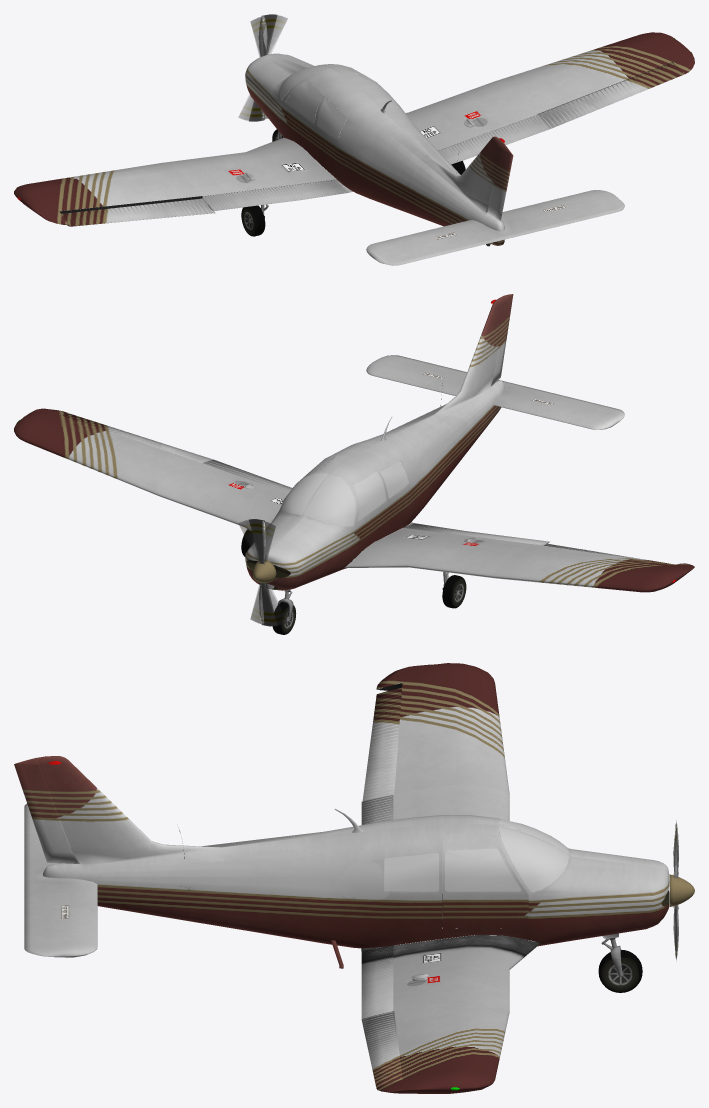
3 renders of one model, top to bottom at view 1: azimuth 30°, elevation 25°; view 2: azimuth 150°, elevation 25°; view 3: azimuth 270°, elevation 25°, orthographic. The views are drawn at different scales.
Visible parts, largest first — view 1: ailes, fuselage, ailes2, aileronD, voletG, aileronG, vitres, voletD, direction, propdisc, trous, roueG (+1 smaller); view 2: ailes, fuselage, ailes2, vitres, propdisc, aileronD, propblur, voletG, voletD, direction, roueG, roueA; view 3: fuselage, ailes, ailes2, vitres, porteG, aileronG, direction, vitreporteG, voletD, aileronD, roueA, voletG.
Boxes of the visible parts, x1,y1,x2,y2 form: ailes: (14,32,694,224); fuselage: (245,53,504,245); ailes2: (366,190,624,265); aileronD: (537,62,684,128); voletG: (202,179,348,210); aileronG: (61,198,215,226); vitres: (279,64,346,139); voletD: (438,115,549,164); direction: (487,144,513,220); propdisc: (238,15,287,120); trous: (59,61,673,213); roueG: (241,205,265,236); ailes: (14,408,694,592); fuselage: (245,295,505,590); ailes2: (366,355,624,429); vitres: (279,459,408,525); propdisc: (238,519,287,625); aileronD: (60,413,212,462); propblur: (249,519,277,626); voletG: (403,523,549,545); voletD: (203,459,292,493); direction: (491,294,513,385); roueG: (442,575,466,608); roueA: (272,602,296,634); fuselage: (37,756,669,948); ailes: (361,663,539,1093); ailes2: (24,803,97,957); vitres: (384,819,569,891); porteG: (442,833,528,928); aileronG: (362,687,402,801); direction: (14,758,76,863); vitreporteG: (445,848,521,891); voletD: (361,945,393,1018); aileronD: (361,1011,402,1087); roueA: (598,949,642,992); voletG: (361,795,393,890).
Size of the model in its own units: 10.55 by 2.73 by 7.15.
Materials: 5 (2 with a texture image).
